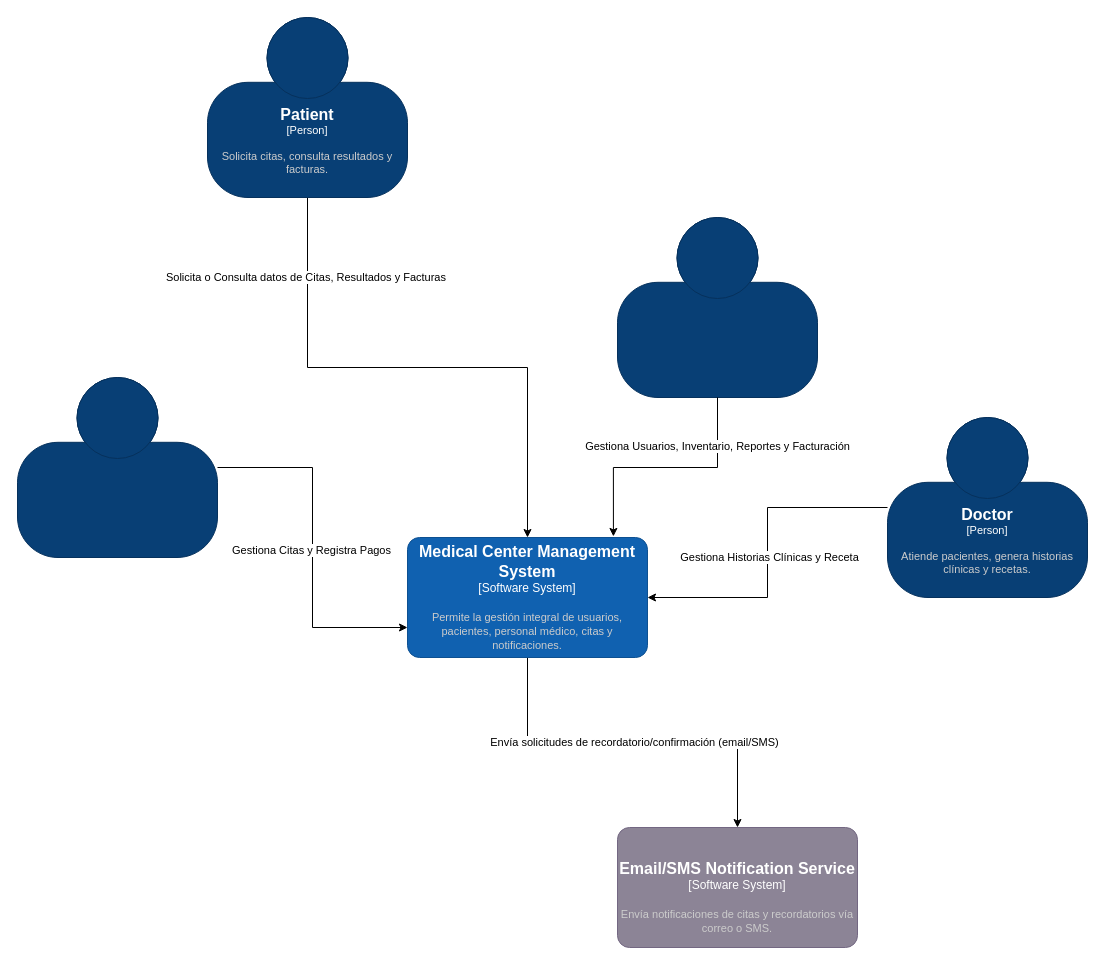
The diagram is 1105 pixels wide and 965 high, and some of its shapes have lost their labels. Each missing label, with the centre of its shape:
"Administrator [Person] Gestiona usuarios, inventario, reportes y facturación." belongs at [717,307].
"Receptionist [Person] Programa y confirma citas, registra pagos." belongs at [117,467].
